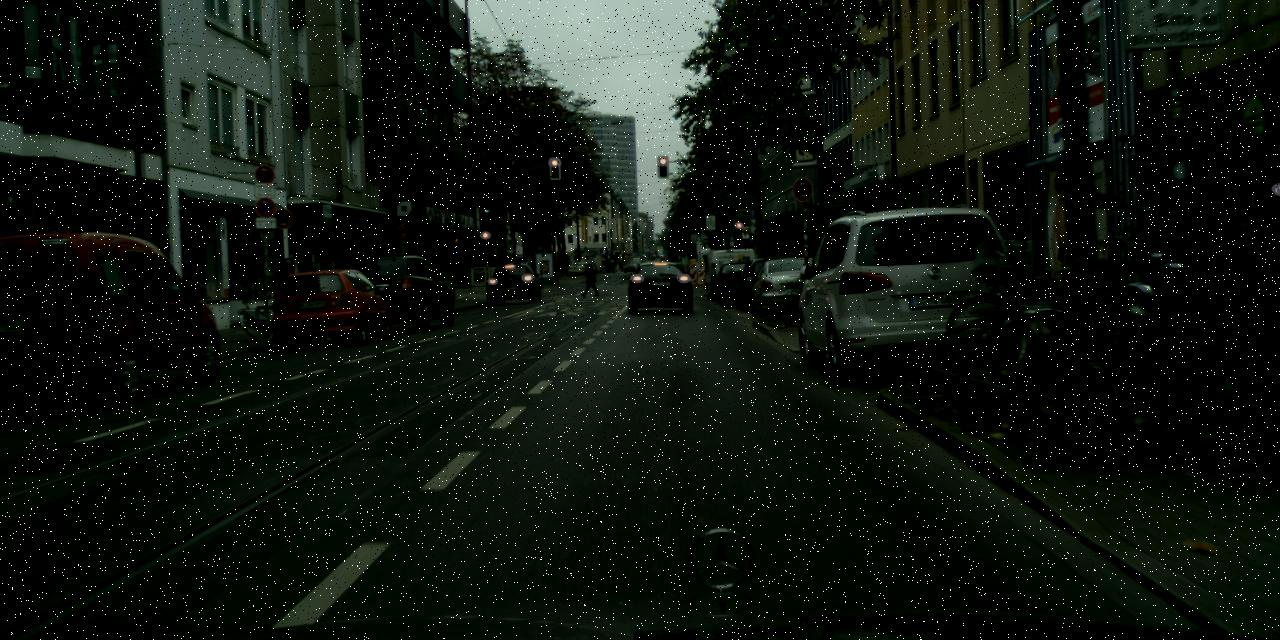ped: (582, 263, 595, 295)
